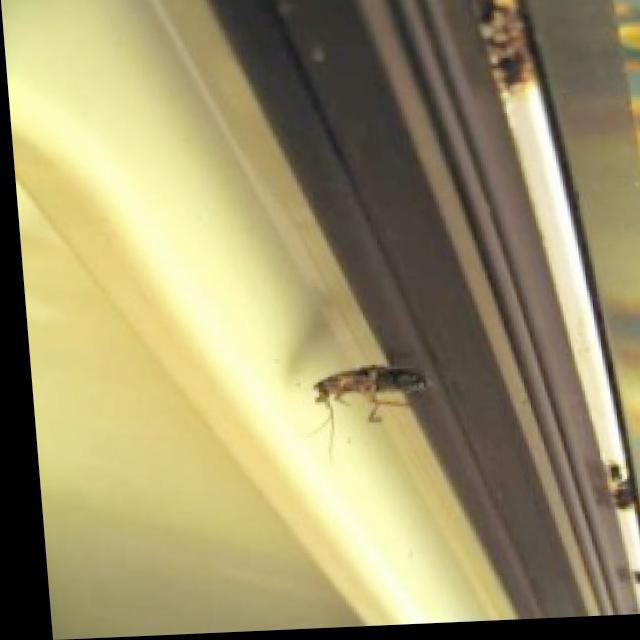cockroach: (303, 358, 430, 463)
